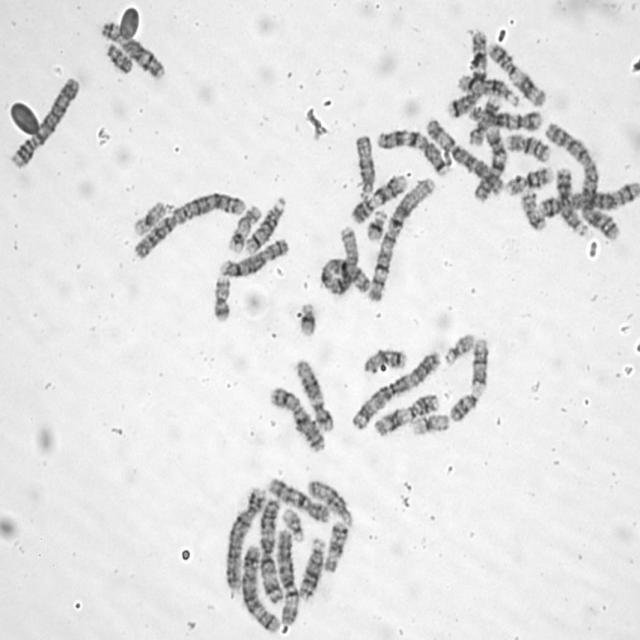A1: (364, 174, 438, 305), (319, 224, 373, 297)
A2: (542, 117, 623, 244), (130, 189, 250, 261)
A3: (348, 348, 443, 432), (256, 496, 284, 605)
B4: (8, 72, 80, 170), (221, 483, 267, 592)
B5: (538, 179, 640, 219), (240, 543, 282, 635)
C10: (264, 474, 332, 524), (469, 124, 508, 205)
C11: (485, 40, 547, 108), (371, 390, 442, 439)
C12: (292, 355, 334, 433), (468, 106, 543, 132)
C6: (423, 115, 505, 199), (274, 526, 299, 627)
C7: (374, 125, 452, 177), (446, 28, 490, 119)
C8: (98, 18, 167, 82), (217, 235, 291, 279)
C9: (446, 335, 492, 424), (349, 170, 409, 225)
D13: (554, 165, 591, 239), (296, 535, 327, 601)
D14: (243, 193, 287, 255), (455, 72, 521, 108)
D15: (304, 476, 354, 527), (352, 131, 376, 198)
E16: (503, 163, 554, 197), (502, 130, 552, 163)
E17: (465, 92, 503, 146), (226, 203, 261, 254)
E18: (322, 521, 350, 576), (363, 348, 407, 374)
F19: (130, 198, 168, 238), (408, 410, 452, 438)
F20: (520, 190, 548, 233), (211, 272, 232, 324)
G21: (364, 207, 390, 243), (298, 301, 318, 338)
G22: (442, 329, 476, 367), (281, 503, 305, 543)
X: (262, 385, 328, 455)
Y: (104, 42, 136, 75)
